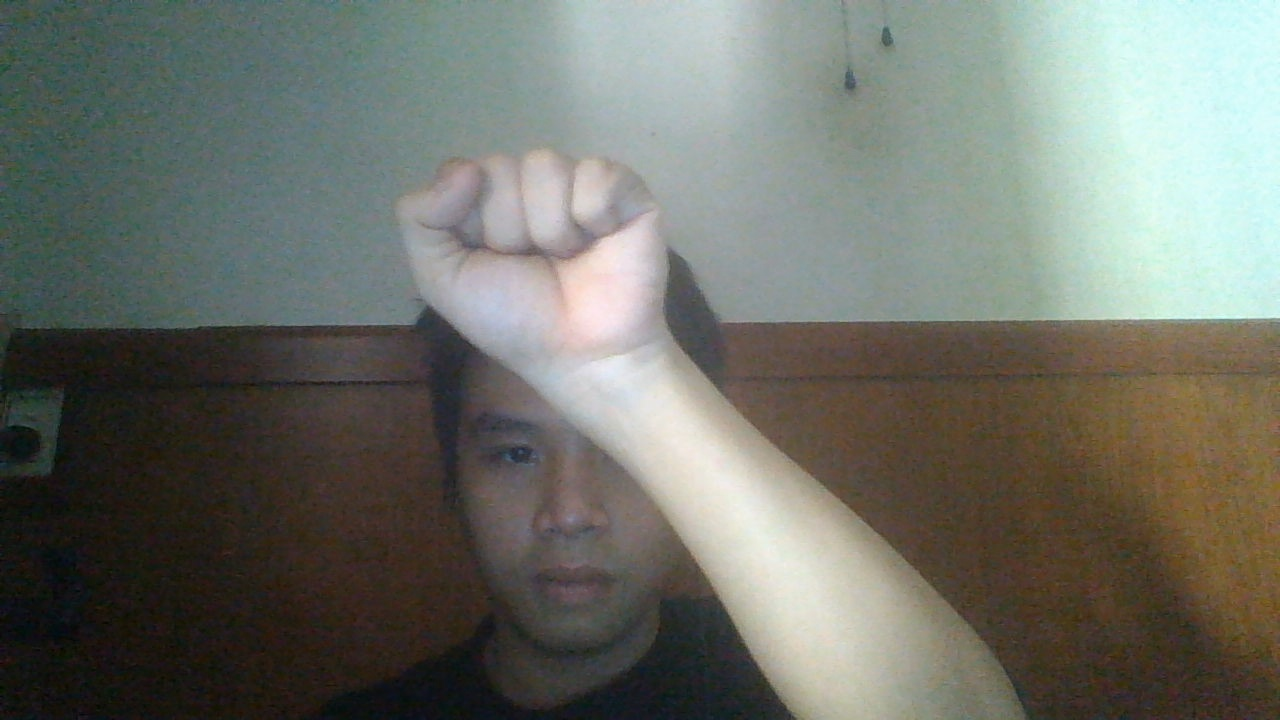stop: (392, 144, 670, 367)
